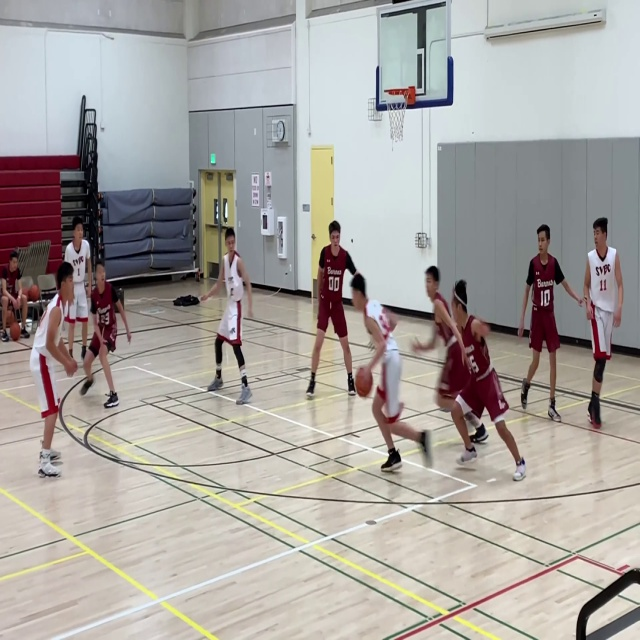Basketball: (355, 367, 373, 397), (26, 285, 40, 302), (9, 322, 20, 341), (3, 309, 14, 327)
